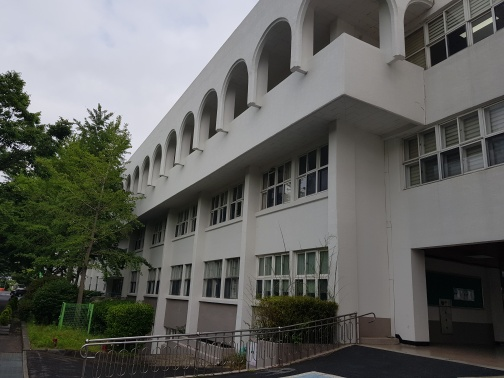Main Building of University: (118, 1, 498, 354), (153, 18, 293, 185)
